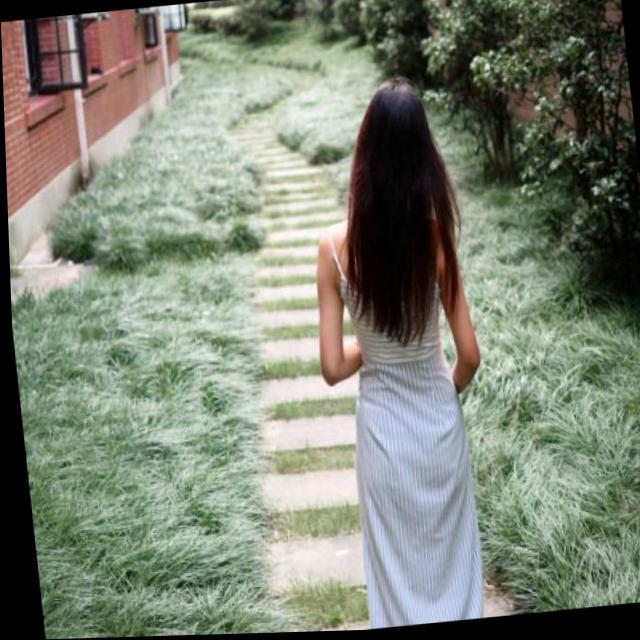no helmet: (345, 73, 448, 236)
